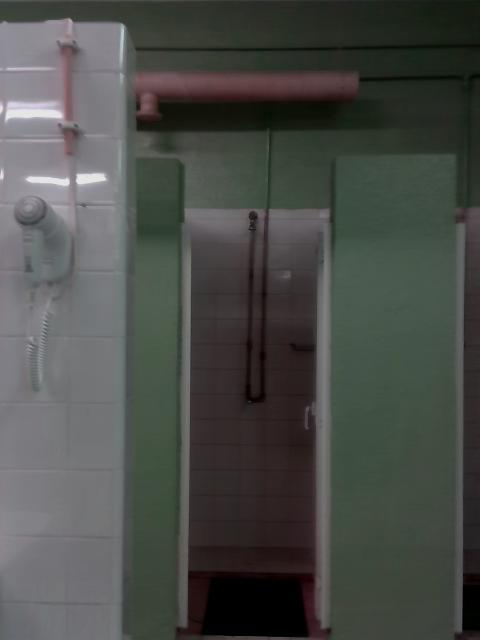open_door: (171, 200, 339, 639)
